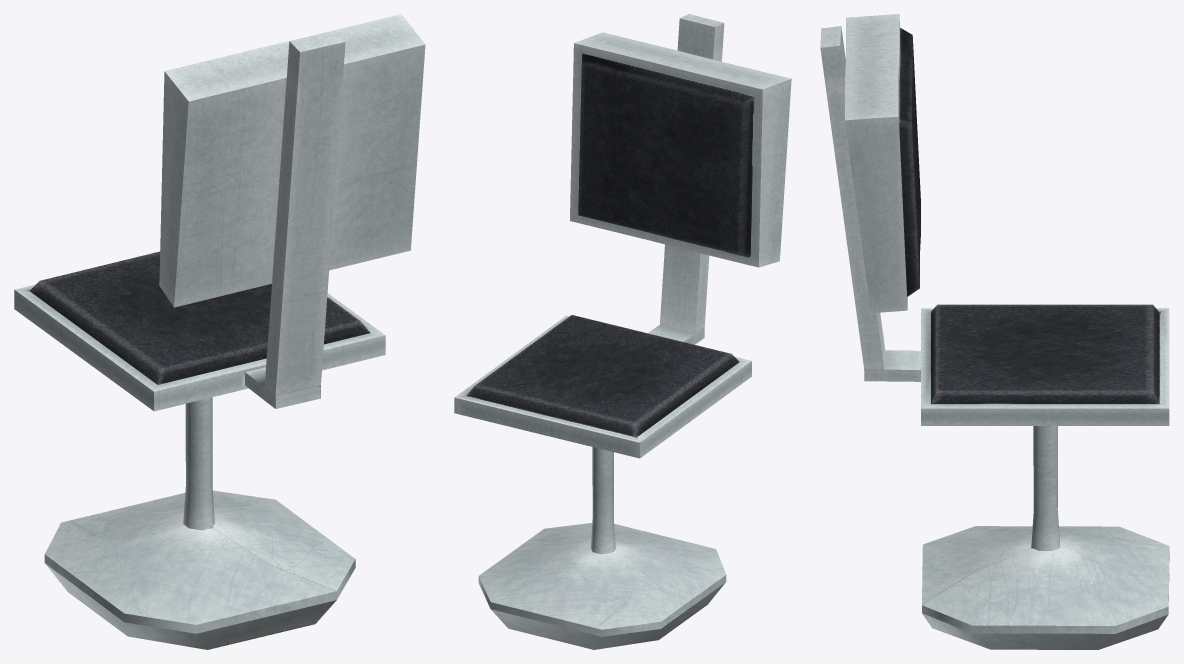
Rendered from Chair.fbx.
The picture shows the model from 3 angles, left to right: view 1: azimuth 30°, elevation 25°; view 2: azimuth 150°, elevation 25°; view 3: azimuth 270°, elevation 25°; orthographic projection. The views are drawn at different scales.
Parts seen in each view (by area): view 1: polySurface9; view 2: polySurface9; view 3: polySurface9.
Part boxes in pixels (box(x1,y1,x2,y2)): polySurface9: box(14, 14, 425, 649); polySurface9: box(454, 14, 791, 649); polySurface9: box(820, 14, 1169, 649).
Bounding box in the file's own units: 12.83 × 32.37 × 18.02.
